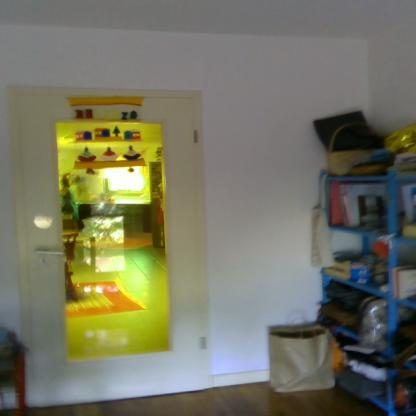door: (19, 90, 207, 392)
hinged: (200, 334, 206, 350), (192, 128, 198, 142)
lever: (32, 247, 66, 256)
